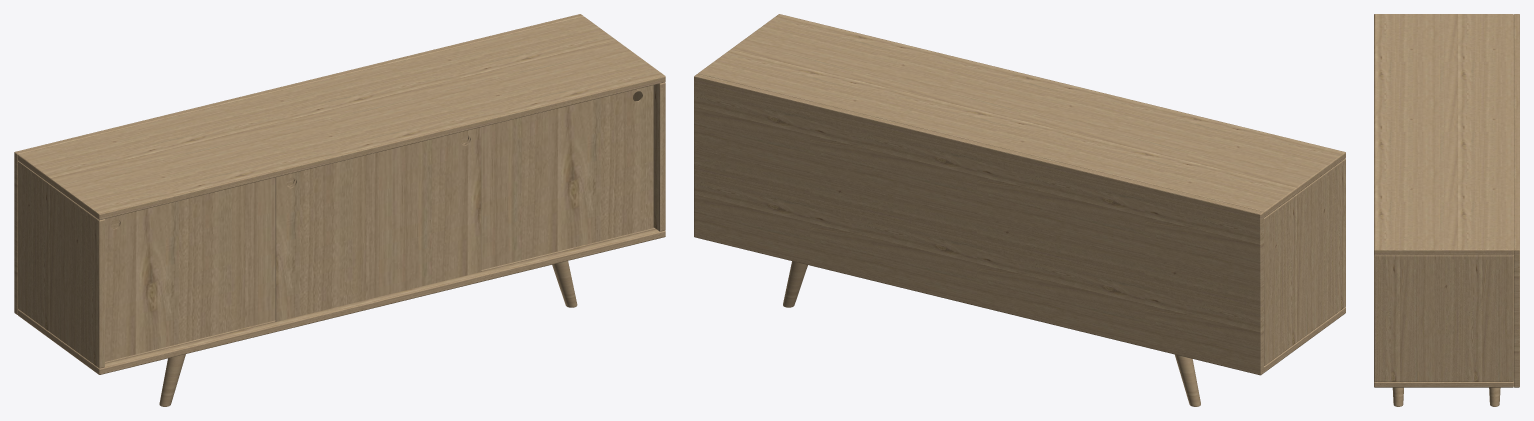
Rendered from tv_cabinet.glb.
The picture shows the model from 3 angles, left to right: view 1: azimuth 30°, elevation 25°; view 2: azimuth 150°, elevation 25°; view 3: azimuth 270°, elevation 25°; orthographic projection. The views are drawn at different scales.
Visible parts, largest first — view 1: Geom3D; view 2: Geom3D; view 3: Geom3D.
Part boxes in pixels (<box>): Geom3D: <box>14,14,665,406</box>; Geom3D: <box>694,14,1345,406</box>; Geom3D: <box>1374,14,1519,406</box>.
Size of the model in its own units: 2.02 by 0.75 by 0.5263.
Materials: 1 (1 with a texture image).
